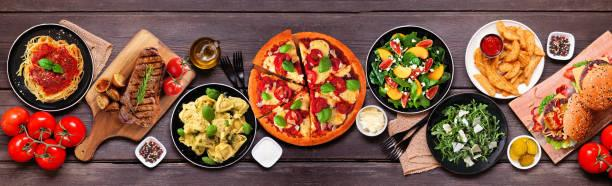Braised Crucian Carp: (498, 21, 611, 175), (77, 27, 195, 163), (246, 29, 365, 147), (4, 23, 93, 113), (365, 24, 453, 114), (169, 82, 257, 169), (425, 90, 507, 175), (464, 19, 544, 100)
